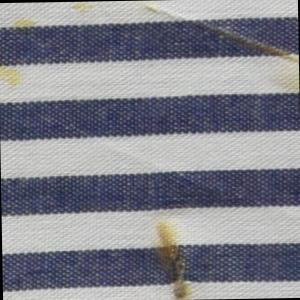Oil Stain: (139, 1, 300, 95), (153, 219, 195, 300)
Stain: (1, 62, 25, 90), (12, 18, 38, 33), (72, 2, 96, 16)
Wrinkle: (47, 113, 221, 204)
